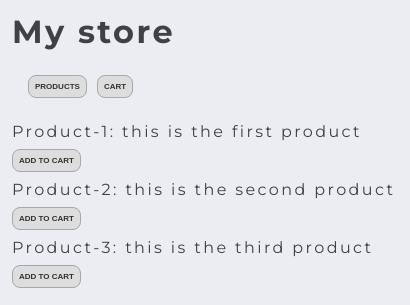
Test case: Store › When clicking on remove from cart button › should remove the added product from the cart
Click the 1st button "Add to cart".
click(46, 160)  # box x1=12 y1=149 x2=81 y2=172
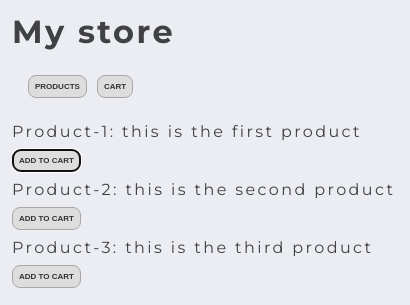
Click the button "Cart".
click(115, 86)  # box x1=97 y1=75 x2=133 y2=98
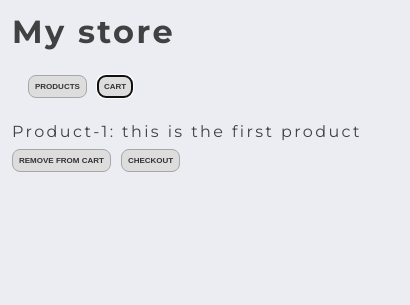
Check: the text "Product-1: this is the first product" is shown, box x1=12 y1=122 x2=362 y2=141
Click the button "Remove from cart".
click(61, 160)  # box x1=12 y1=149 x2=111 y2=172
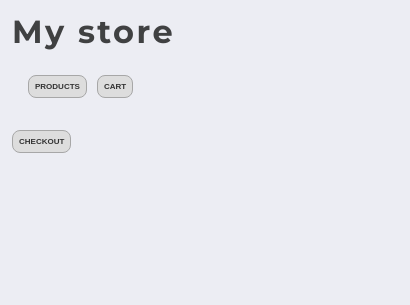
Check: the text "Product-1: this is the first product" is gone
